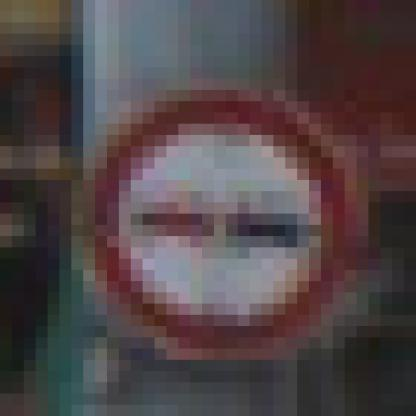No Overtaking: (61, 68, 358, 361)
